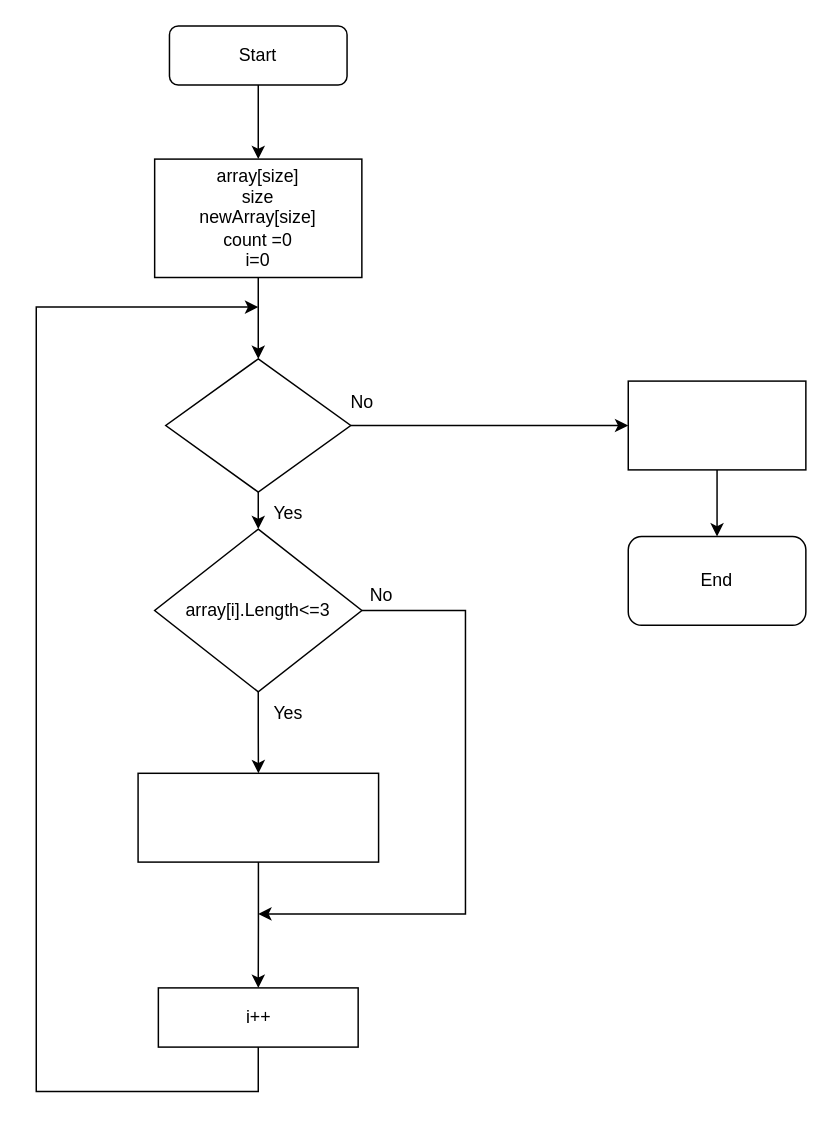
The diagram is 832 pixels wide and 1129 high, and some of its shapes have lost their labels. Each missing label, with the box of its shape:
i<size: (164, 357, 351, 492)
newArray[count] =array[i] count++: (137, 772, 379, 862)
PrintArray(newArray): (627, 380, 806, 470)
